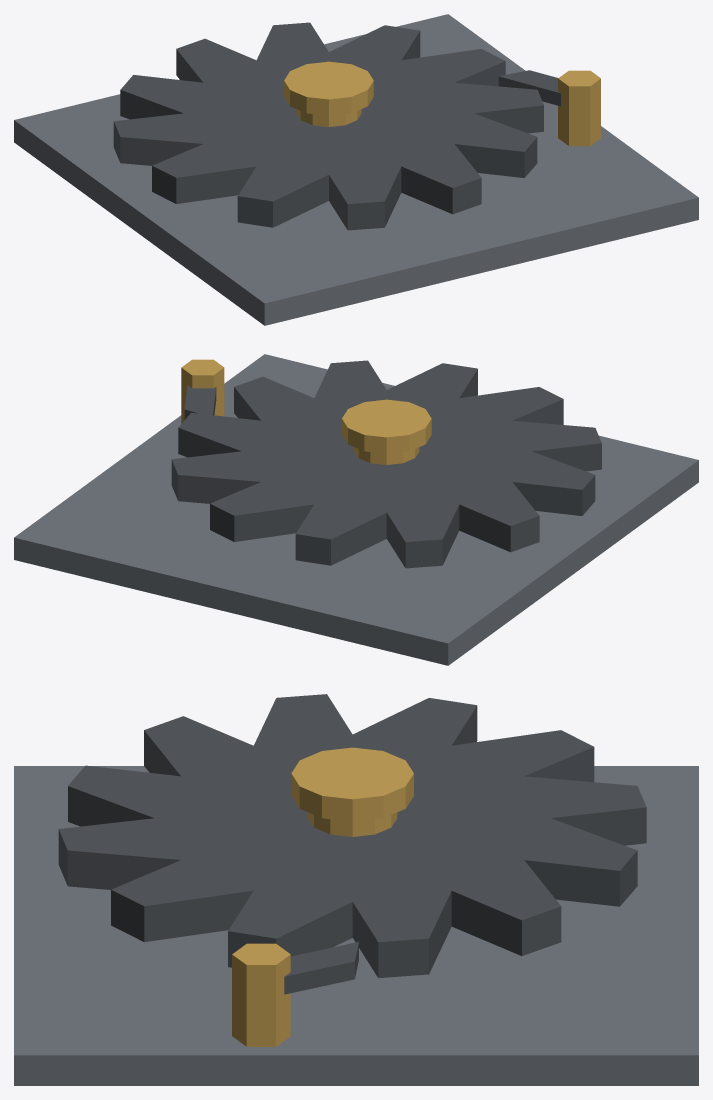
File: ratchet_dial.glb
3 renders of one model, top to bottom at view 1: azimuth 30°, elevation 25°; view 2: azimuth 150°, elevation 25°; view 3: azimuth 270°, elevation 25°, orthographic. The views are drawn at different scales.
Parts seen in each view (by area): view 1: Cube.002; view 2: Cube.002; view 3: Cube.002.
Boxes of the visible parts, x1,y1,x2,y2 form: Cube.002: (14,14,698,325); Cube.002: (14,354,698,665); Cube.002: (14,694,698,1085).
Bounding box in the file's own units: 0.2836 × 0.0678 × 0.2836.
